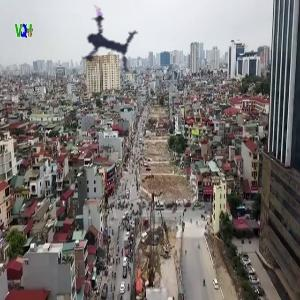drone: (61, 3, 142, 84)
